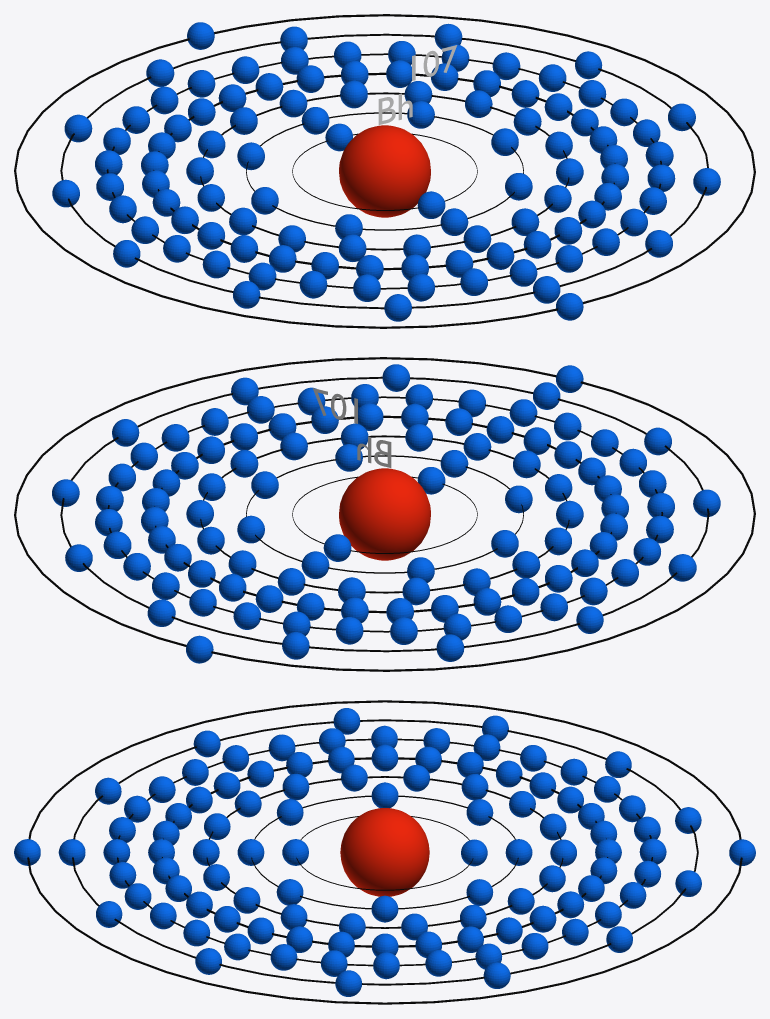
3 views of the same model, one above another, from view 1: azimuth 30°, elevation 25°; view 2: azimuth 150°, elevation 25°; view 3: azimuth 270°, elevation 25° (orthographic). The views are drawn at different scales.
Visible parts, largest first — view 1: Bh5, Bh4, Bh3, Bh6, Proton, Bh2, n7, n6, Bh7, n5, Bh1, n3 (+2 smaller); view 2: Bh5, Bh4, Bh3, Bh6, Proton, Bh2, n7, n6, n5, Bh7, Bh1, n3 (+2 smaller); view 3: Bh5, Bh4, Bh3, Bh6, Proton, Bh2, n7, n6, n5, Bh1, Bh7, n3 (+2 smaller).
Boxes of the visible parts, box(x1,y1,x2,y2) form: Bh5: box(95, 41, 675, 301); Bh4: box(141, 60, 628, 280); Bh3: box(186, 80, 583, 261); Bh6: box(52, 23, 720, 321); Proton: box(339, 125, 430, 217); Bh2: box(237, 101, 532, 239); n7: box(14, 14, 755, 328); n6: box(60, 33, 708, 309); Bh7: box(187, 22, 583, 320); n5: box(106, 53, 661, 289); Bh1: box(325, 123, 445, 218); n3: box(200, 92, 569, 250); Bh5: box(95, 384, 674, 644); Bh4: box(141, 403, 628, 623); Bh3: box(186, 423, 583, 605); Bh6: box(52, 364, 720, 661); Proton: box(339, 468, 430, 560); Bh2: box(237, 444, 532, 582); n7: box(14, 357, 755, 671); n6: box(60, 376, 709, 652); n5: box(107, 396, 663, 632); Bh7: box(186, 365, 583, 663); Bh1: box(323, 467, 445, 561); n3: box(200, 435, 569, 593); Bh5: box(103, 725, 666, 979); Bh4: box(148, 744, 621, 957); Bh3: box(193, 764, 576, 940); Bh6: box(58, 708, 701, 996); Proton: box(340, 808, 429, 896); Bh2: box(237, 782, 532, 922); n7: box(27, 700, 742, 1004); n6: box(72, 719, 698, 985); n5: box(117, 738, 652, 966); Bh1: box(282, 839, 487, 866); Bh7: box(14, 839, 755, 865); n3: box(206, 776, 563, 928).
Size of the model in its own units: 802 by 180 by 830.
